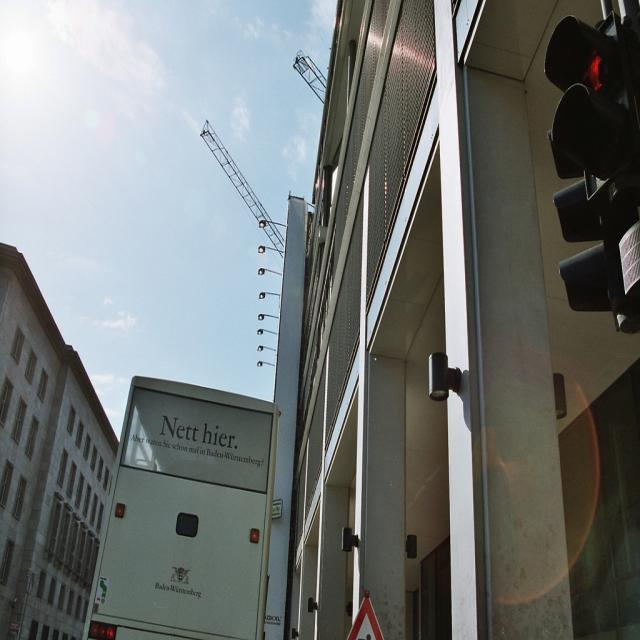traffic light: (555, 19, 640, 296)
